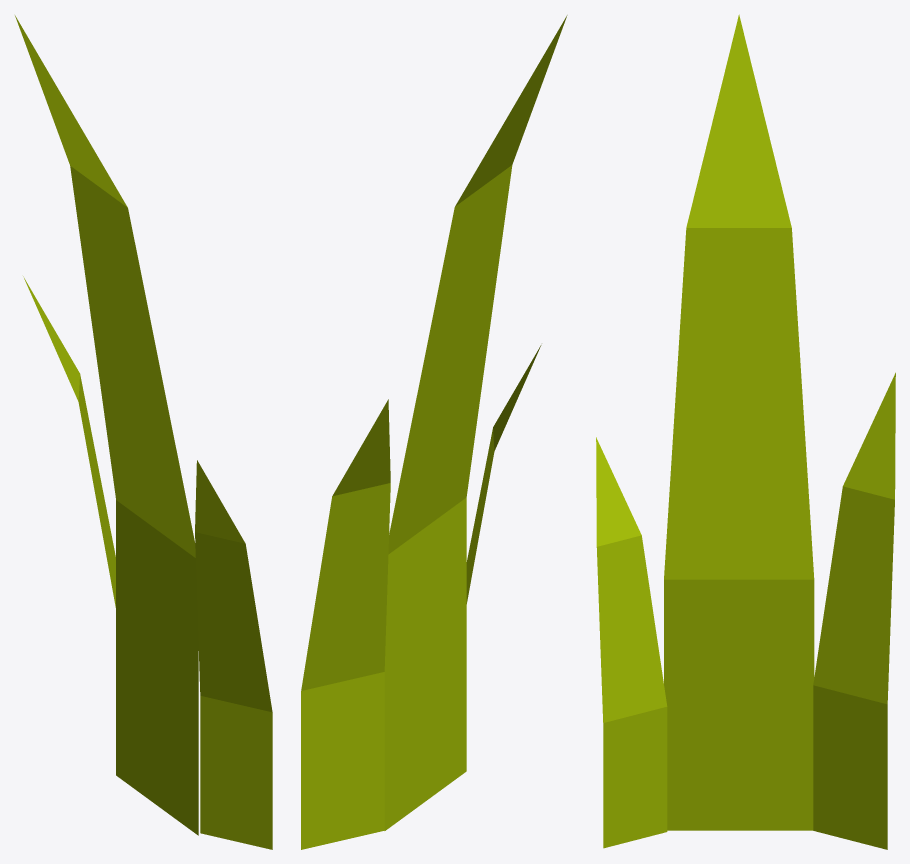
Rendered from Grass_C_002.fbx.
The picture shows the model from 3 angles, left to right: view 1: azimuth 30°, elevation 25°; view 2: azimuth 150°, elevation 25°; view 3: azimuth 270°, elevation 25°; orthographic projection. The views are drawn at different scales.
Parts seen in each view (by area): view 1: Grass C.002; view 2: Grass C.002; view 3: Grass C.002.
Part boxes in pixels (x1=…): Grass C.002: x1=15, y1=15, x2=272, y2=849; Grass C.002: x1=301, y1=15, x2=567, y2=849; Grass C.002: x1=596, y1=14, x2=895, y2=849.
Bounding box in the file's own units: 6.67 × 28.24 × 10.18.
